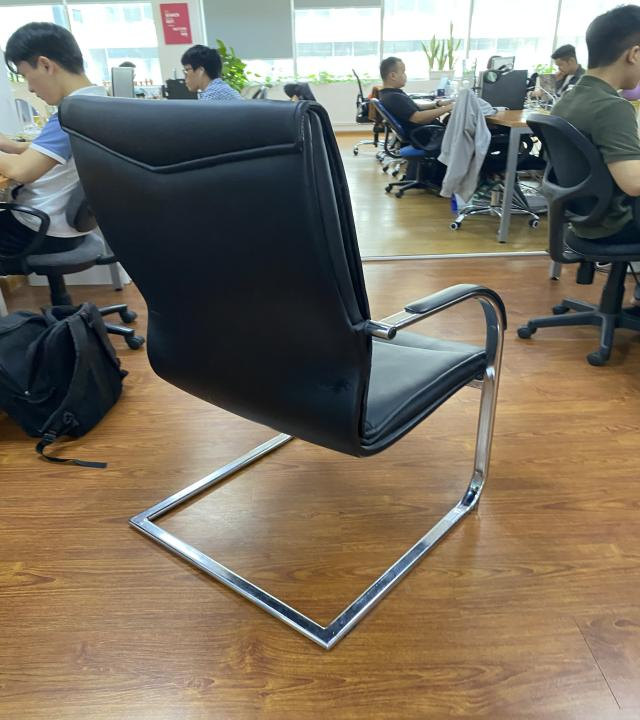SS_03: (58, 91, 508, 654)
